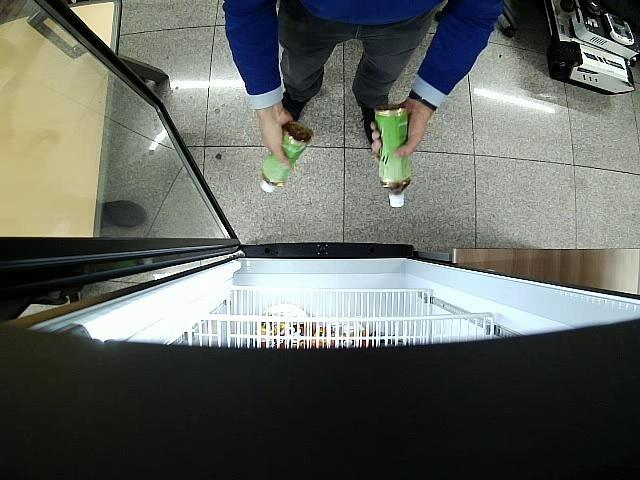19_17cha: (372, 106, 412, 207), (260, 122, 312, 192)
